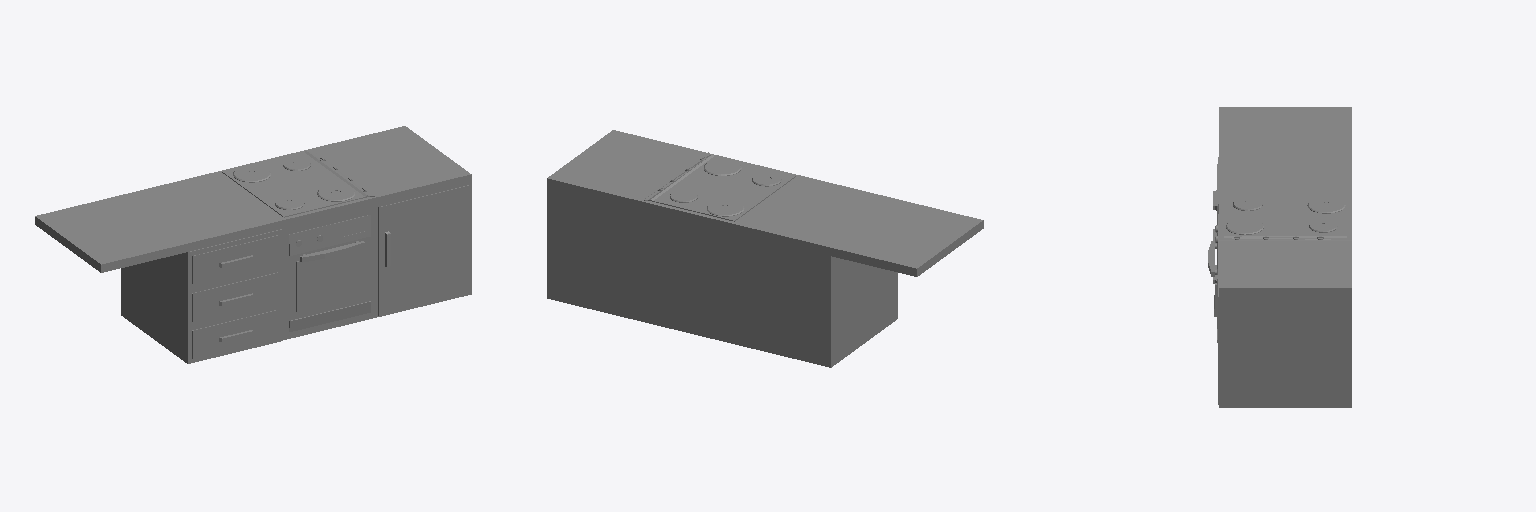
File: fkc.obj
The picture shows the model from 3 angles: view 1: azimuth 30°, elevation 25°; view 2: azimuth 150°, elevation 25°; view 3: azimuth 270°, elevation 25°; orthographic projection.
Parts seen in each view (by area): view 1: Box001; view 2: Box001; view 3: Box001.
Part boxes in pixels (left/top/right/bottom): Box001: left=35, top=126, right=471, bottom=363; Box001: left=547, top=130, right=983, bottom=367; Box001: left=1208, top=107, right=1351, bottom=407.
Size of the model in its own units: 87.27 by 27.69 by 29.34.